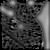node: (1, 6, 16, 17), (8, 1, 17, 8), (26, 1, 35, 7)
